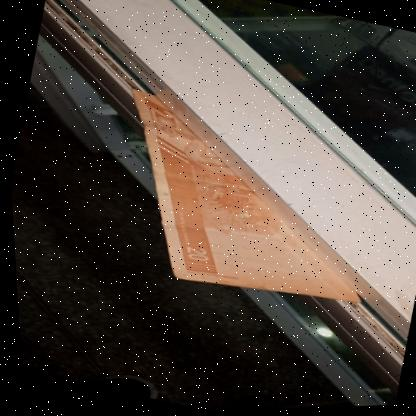twenty-back-vef: (87, 83, 396, 327)
